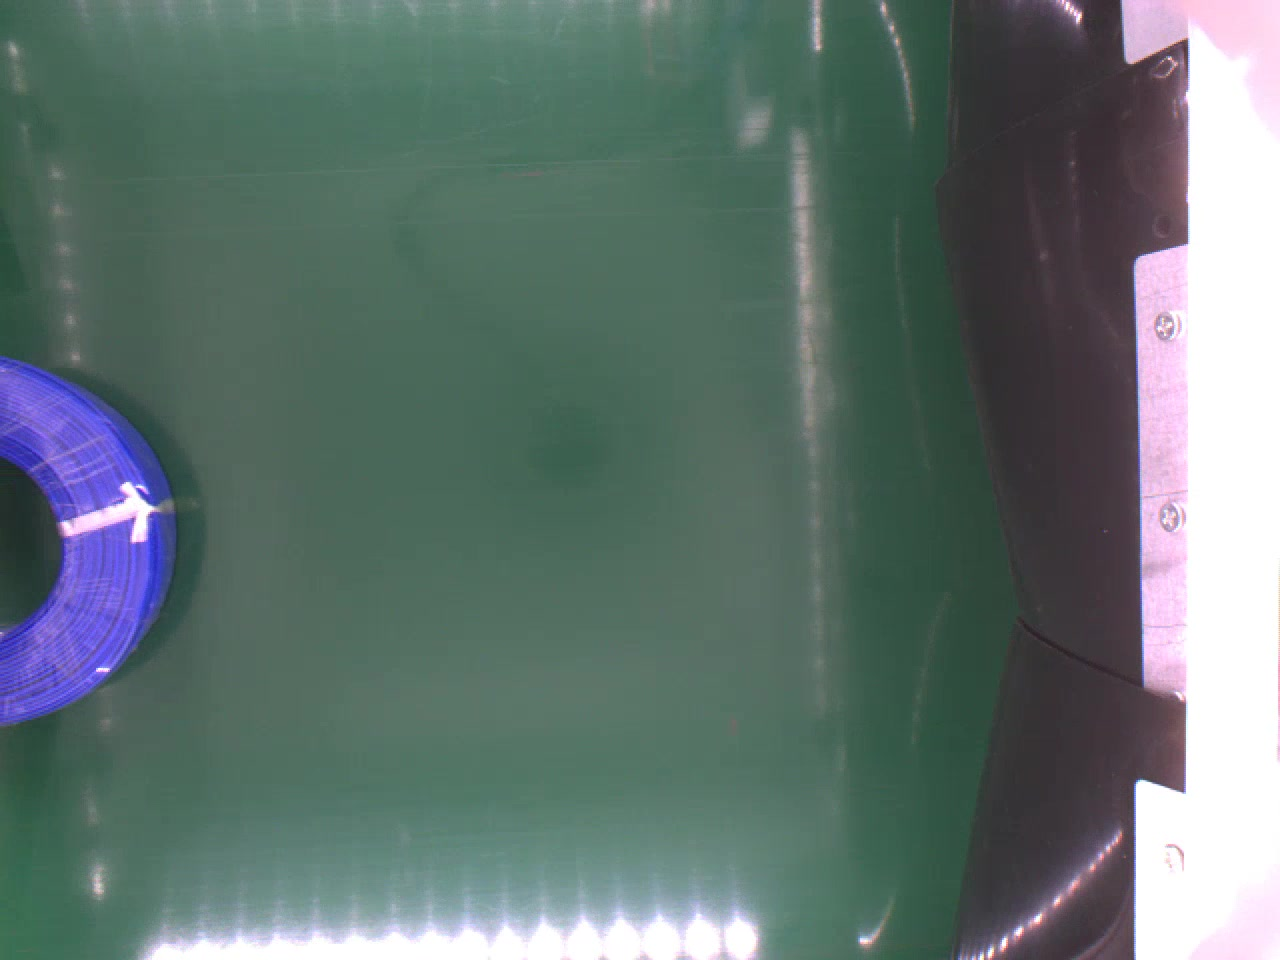blue: (0, 354, 177, 735)
